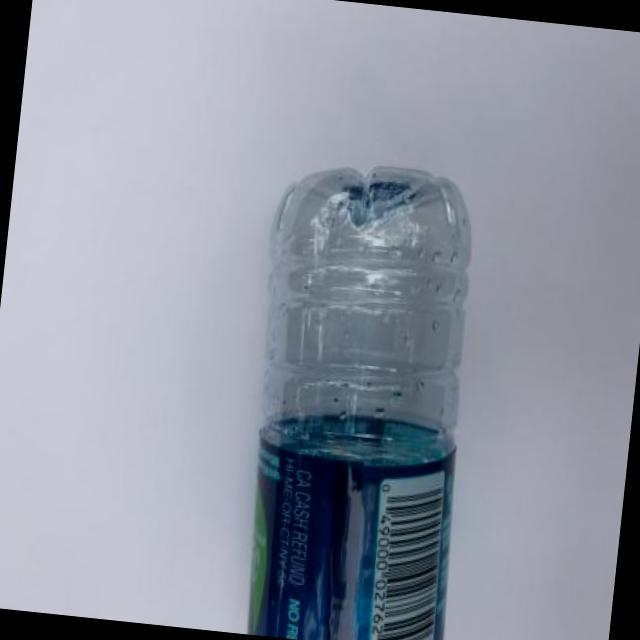Recycle: (227, 152, 492, 640)
